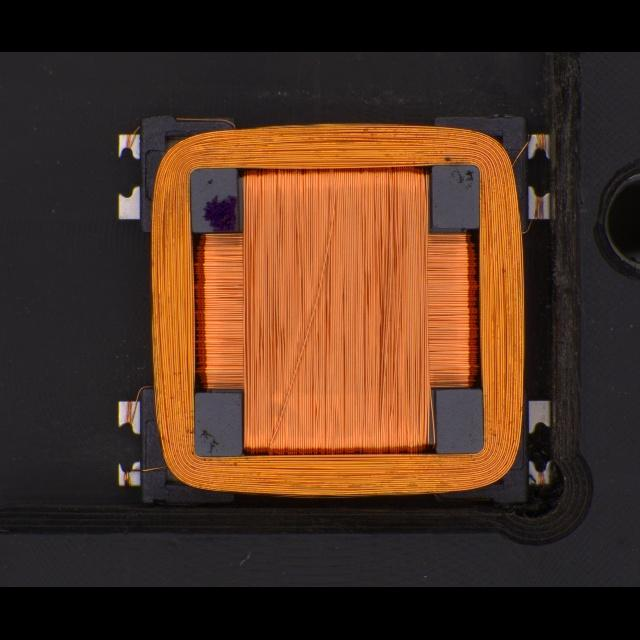Winding_Z: (124, 116, 531, 503)
